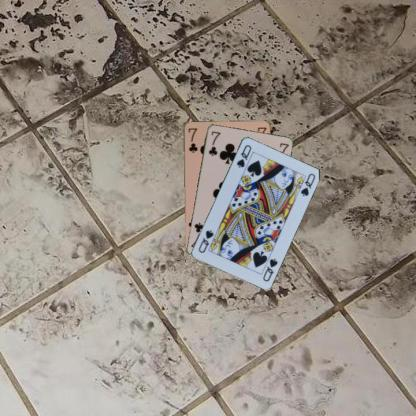7c: (206, 128, 221, 157), (186, 125, 198, 154)
Qs: (260, 256, 279, 283), (234, 142, 252, 169)
